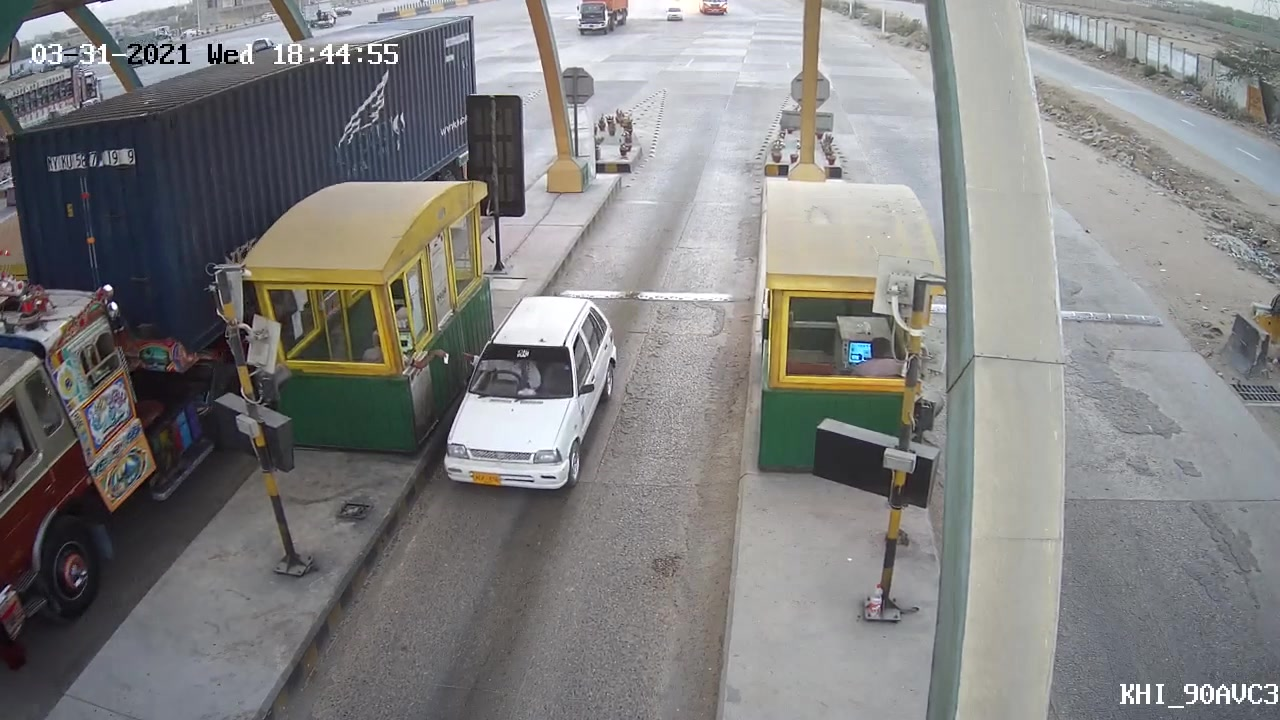F1: (431, 285, 624, 499)
